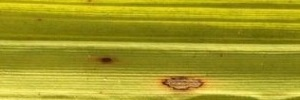RiceBrownSpot: (150, 68, 210, 100), (90, 48, 122, 70)
